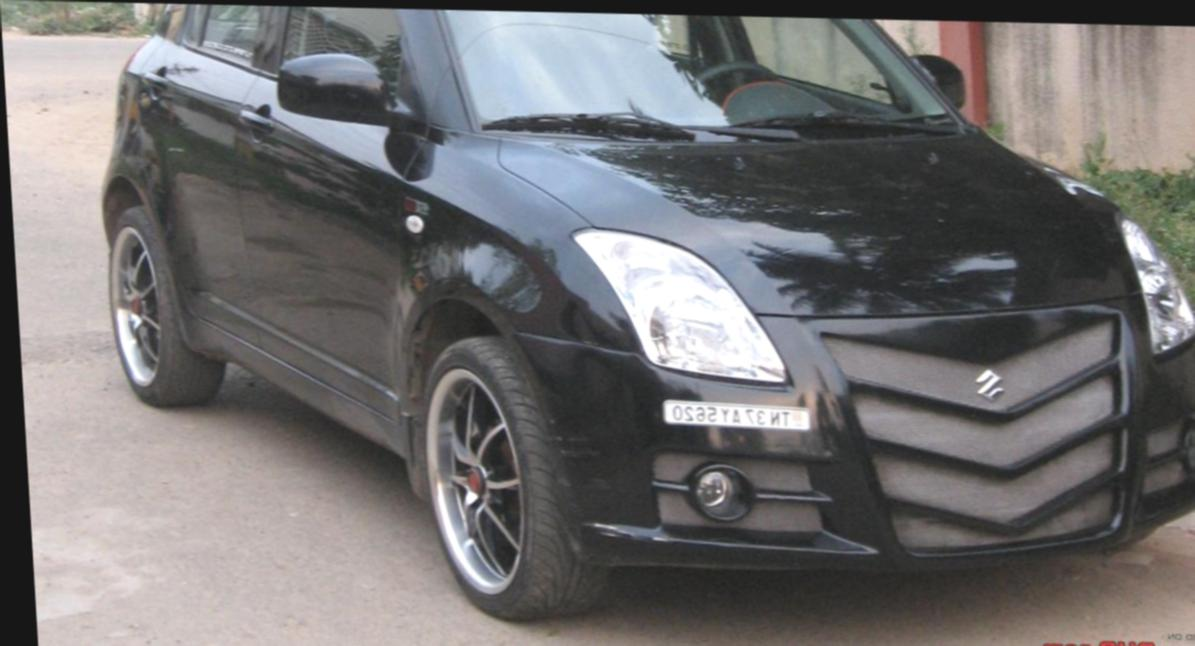License_Plate: (660, 398, 813, 437)
